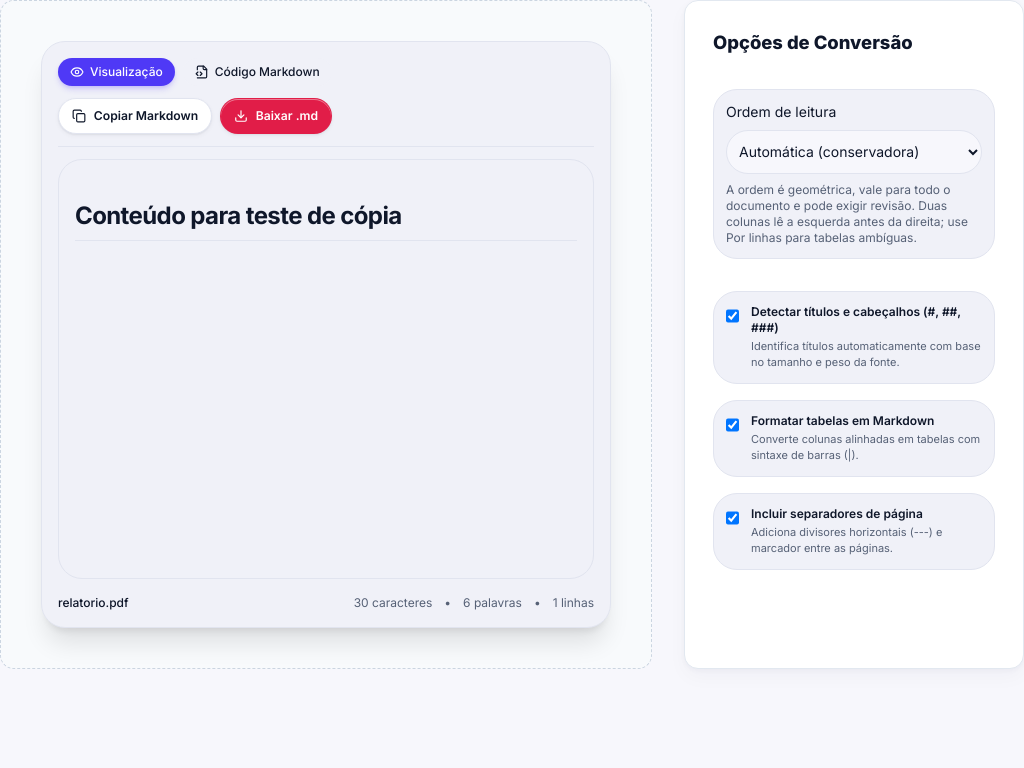
Scenario: PdfToMarkdownPanel - Painel de Conversão de PDF para Markdown › permite copiar o markdown para a área de transferência
Click the button "Copiar Markdown" at (135, 116), box [58,98,212,134]
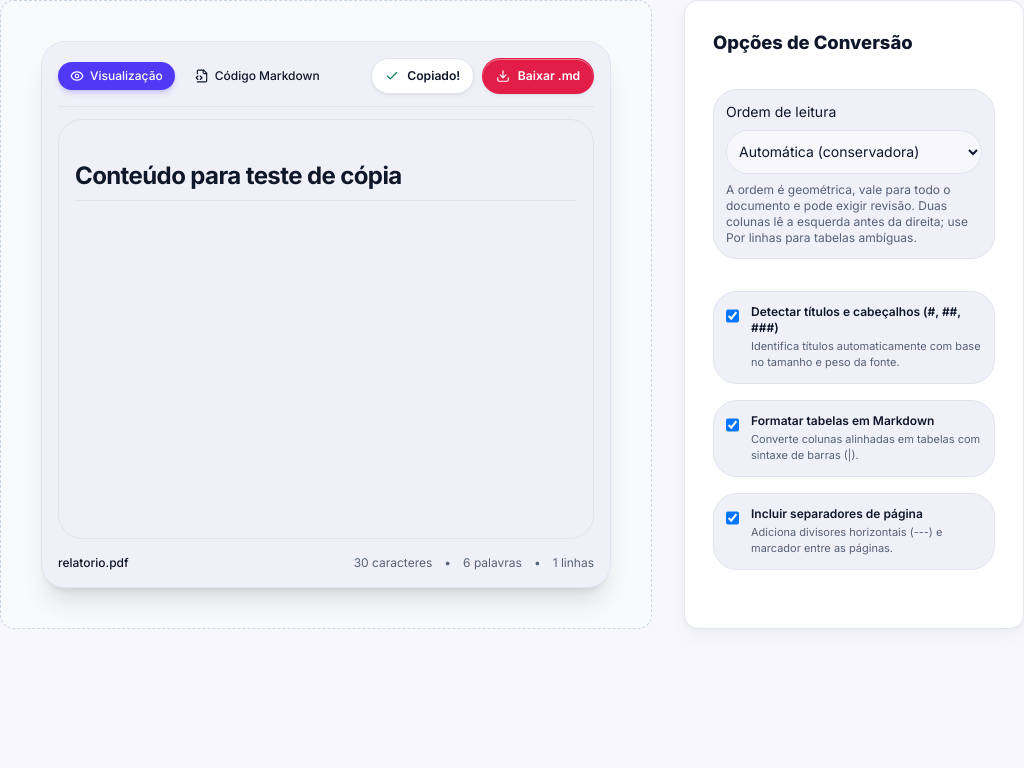
Now the text "Copiado!" is shown, box [407,68,460,84]
